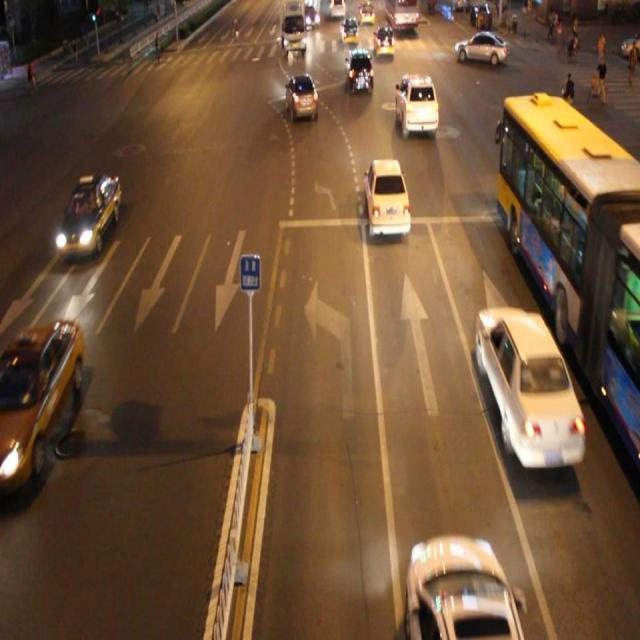car: (476, 304, 585, 466), (1, 318, 81, 490), (405, 534, 525, 640), (56, 173, 120, 256), (362, 155, 411, 240), (394, 72, 438, 134), (285, 73, 319, 121), (344, 47, 374, 96)
van: (495, 96, 640, 462)
